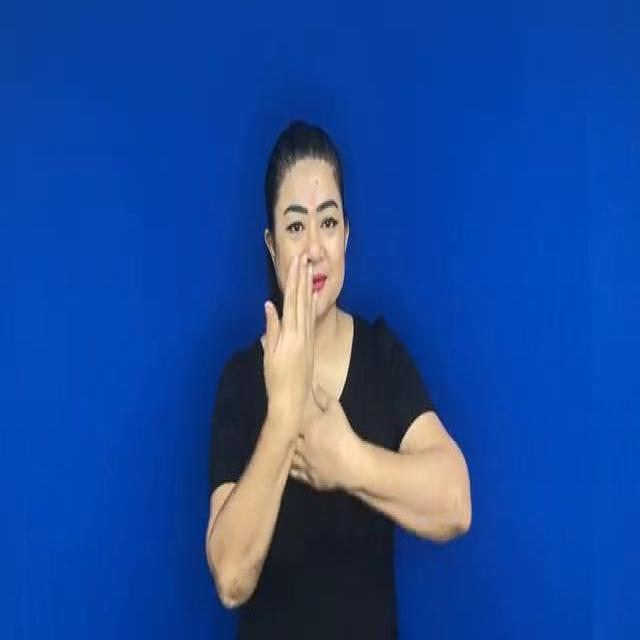bread: (259, 272, 358, 520)
